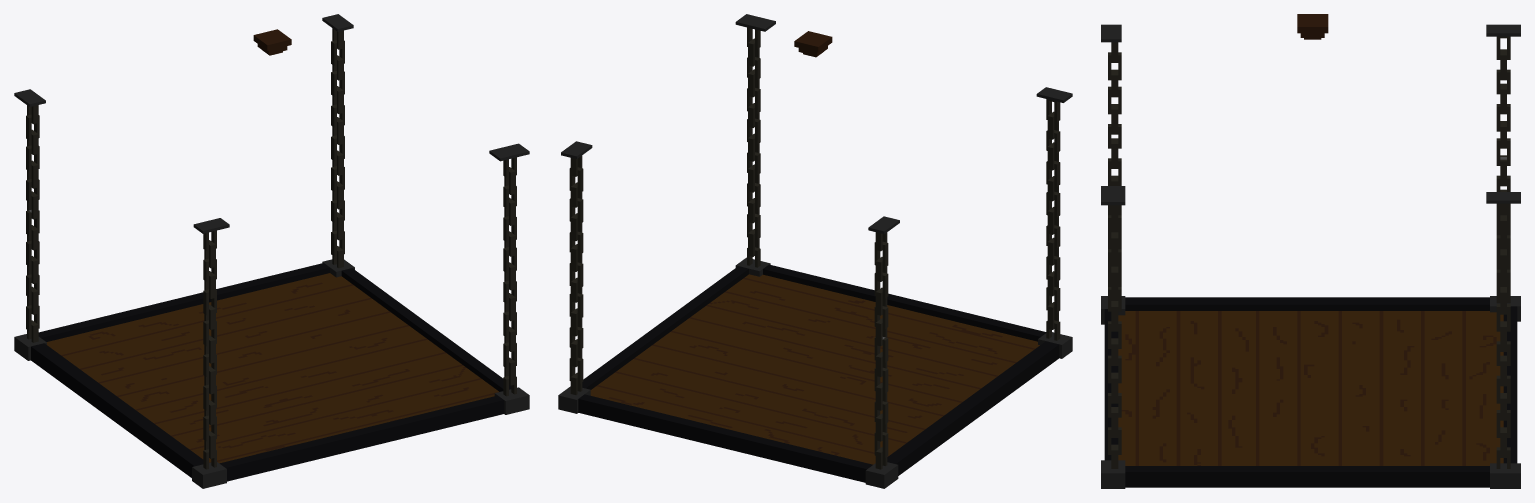
The model's file is final_elevator.obj.
3 views of the same model, side by side, from view 1: azimuth 30°, elevation 25°; view 2: azimuth 150°, elevation 25°; view 3: azimuth 270°, elevation 25° (orthographic). The views are drawn at different scales.
Size of the model in its own units: 12.2 by 12.2 by 12.2.
